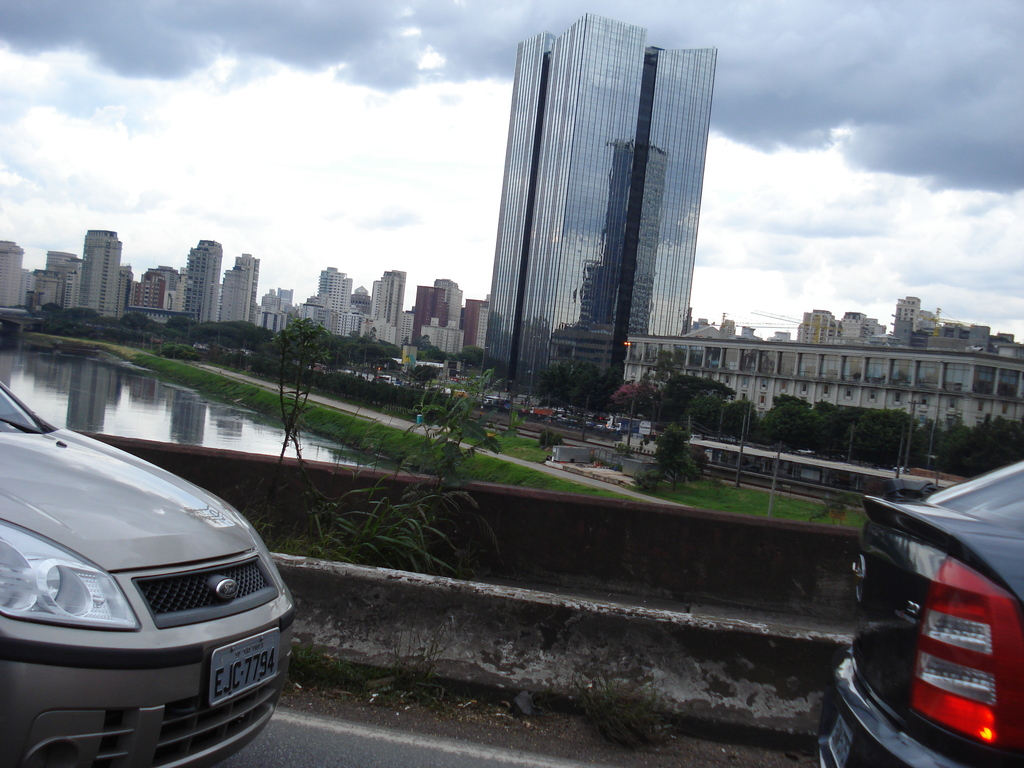Car: (0, 371, 305, 767), (797, 456, 1023, 767)
